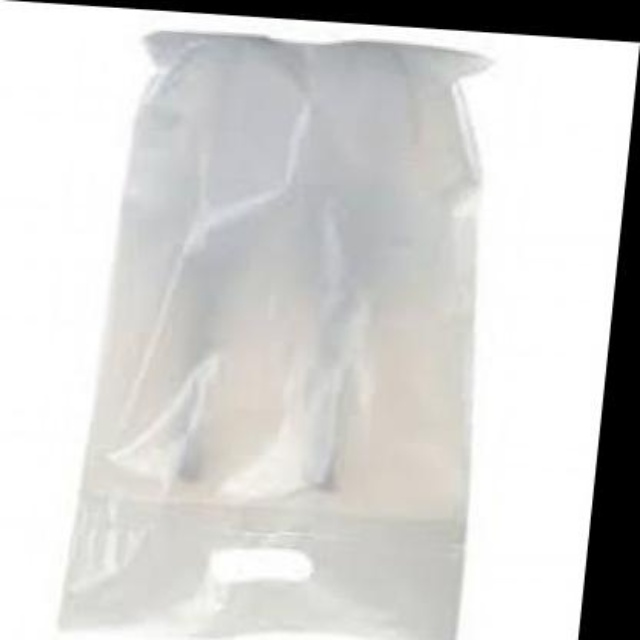trash: (60, 32, 483, 638)
